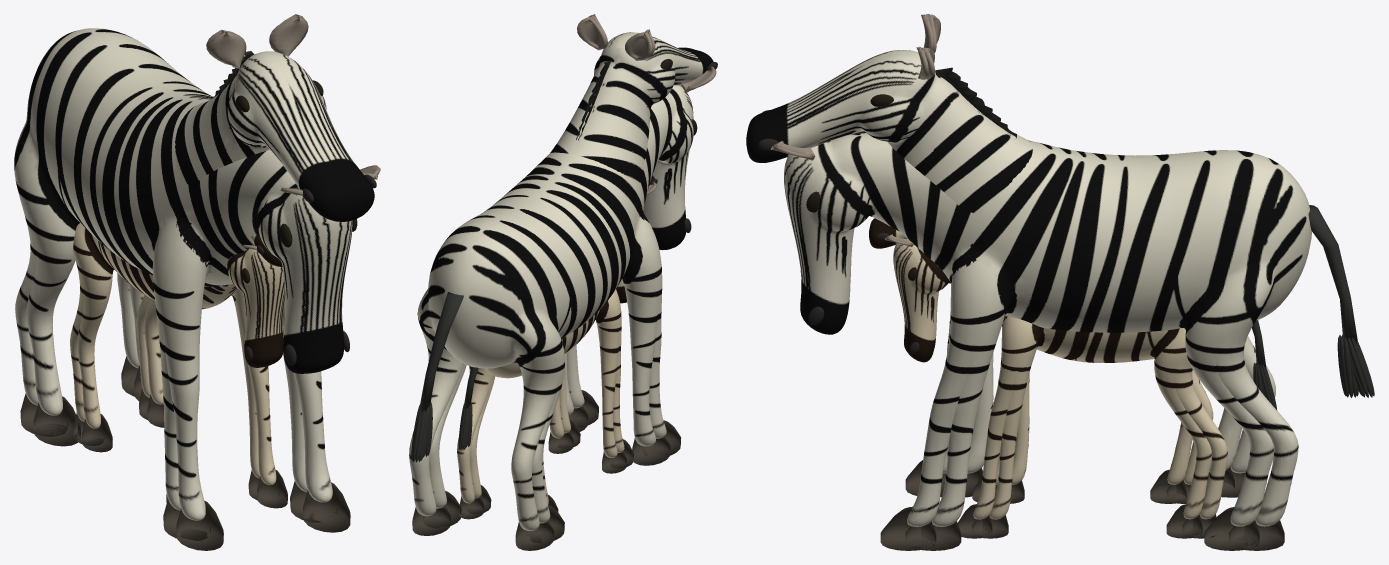
The model's file is plains-zebras.glb.
3 views of the same model, side by side, from view 1: azimuth 30°, elevation 25°; view 2: azimuth 150°, elevation 25°; view 3: azimuth 270°, elevation 25° (orthographic). The views are drawn at different scales.
Visible parts, largest first — view 1: Zebra | continuous directly posed grazing skin.001, Zebra | continuous sculpted skin.001, Zebra | continuous sculpted skin.002, Zebra | continuous directly posed grazing skin.002, Zebra | continuous sculpted skin.004, Zebra | continuous sculpted skin.003, Hoof coronet wall and toe.014, Hoof coronet wall and toe.008, Hoof coronet wall and toe.013, Cupped pointed ear.003, Cupped pointed ear.006, Hoof coronet wall and toe.009 (+5 smaller); view 2: Zebra | continuous directly posed grazing skin.001, Zebra | continuous sculpted skin.001, Zebra | continuous sculpted skin.002, Zebra | continuous sculpted skin.004, Zebra | continuous directly posed grazing skin.002, Tail dock.003, Hoof coronet wall and toe.012, Hoof coronet wall and toe.009, Tail dock.002, Cupped pointed ear.007, Hoof coronet wall and toe.015, Zebra | continuous sculpted skin.003 (+7 smaller); view 3: Zebra | continuous directly posed grazing skin.001, Zebra | continuous sculpted skin.002, Zebra | continuous sculpted skin.001, Zebra | continuous directly posed grazing skin.002, Zebra | continuous sculpted skin.004, Zebra | continuous sculpted skin.003, Hoof coronet wall and toe.011, Hoof coronet wall and toe.014, Tail dock.002, Hoof coronet wall and toe.010, Hoof coronet wall and toe.015, Short bristly mane ridge.001.
Boxes of the visible parts, x1,y1,x2,y2 form: Zebra | continuous directly posed grazing skin.001: [14, 29, 352, 520]; Zebra | continuous sculpted skin.001: [14, 28, 351, 514]; Zebra | continuous sculpted skin.002: [22, 29, 374, 510]; Zebra | continuous directly posed grazing skin.002: [70, 223, 285, 478]; Zebra | continuous sculpted skin.004: [75, 250, 276, 484]; Zebra | continuous sculpted skin.003: [73, 224, 282, 476]; Hoof coronet wall and toe.014: [303, 482, 350, 532]; Hoof coronet wall and toe.008: [176, 500, 223, 550]; Hoof coronet wall and toe.013: [33, 396, 80, 446]; Cupped pointed ear.003: [269, 16, 308, 56]; Cupped pointed ear.006: [209, 31, 246, 68]; Hoof coronet wall and toe.009: [20, 393, 67, 436]; Zebra | continuous directly posed grazing skin.001: [417, 85, 693, 531]; Zebra | continuous sculpted skin.001: [422, 34, 713, 527]; Zebra | continuous sculpted skin.002: [409, 32, 694, 523]; Zebra | continuous sculpted skin.004: [457, 315, 619, 504]; Zebra | continuous directly posed grazing skin.002: [470, 279, 626, 498]; Tail dock.003: [419, 329, 448, 412]; Hoof coronet wall and toe.012: [632, 435, 670, 465]; Hoof coronet wall and toe.009: [515, 520, 554, 550]; Tail dock.002: [428, 292, 463, 407]; Cupped pointed ear.007: [577, 15, 606, 50]; Hoof coronet wall and toe.015: [412, 505, 450, 535]; Zebra | continuous sculpted skin.003: [471, 175, 654, 452]; Zebra | continuous directly posed grazing skin.001: [784, 133, 1311, 526]; Zebra | continuous sculpted skin.002: [746, 53, 1298, 526]; Zebra | continuous sculpted skin.001: [748, 50, 1311, 525]; Zebra | continuous directly posed grazing skin.002: [893, 243, 1213, 519]; Zebra | continuous sculpted skin.004: [869, 220, 1227, 519]; Zebra | continuous sculpted skin.003: [870, 218, 1211, 518]; Hoof coronet wall and toe.011: [1204, 507, 1259, 550]; Hoof coronet wall and toe.014: [880, 506, 936, 550]; Tail dock.002: [1308, 205, 1349, 341]; Hoof coronet wall and toe.010: [905, 521, 961, 550]; Hoof coronet wall and toe.015: [1229, 520, 1284, 550]; Short bristly mane ridge.001: [936, 68, 1016, 138].
Size of the model in its own units: 1.24 by 3.65 by 4.29.
Materials: 9 (4 with a texture image).
